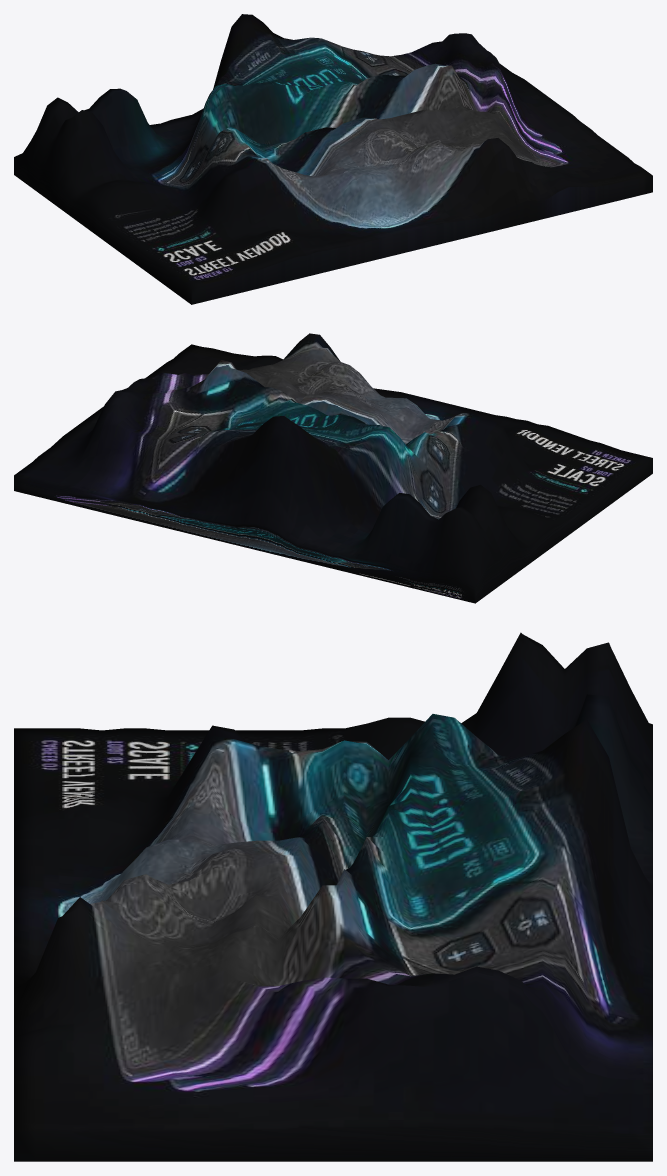
File: CAREER_01_Tool_02_Scale.glb
The picture shows the model from 3 angles, top to bottom: view 1: azimuth 30°, elevation 25°; view 2: azimuth 150°, elevation 25°; view 3: azimuth 270°, elevation 25°; orthographic projection. The views are drawn at different scales.
Parts seen in each view (by area): view 1: CAREER_01_Tool_02_Scale; view 2: CAREER_01_Tool_02_Scale; view 3: CAREER_01_Tool_02_Scale.
Part boxes in pixels (x1,y1,x2,y2): CAREER_01_Tool_02_Scale: (14, 14, 652, 304); CAREER_01_Tool_02_Scale: (14, 333, 652, 603); CAREER_01_Tool_02_Scale: (14, 632, 652, 1161).
Size of the model in its own units: 2 by 0.51 by 1.33.
Materials: 1 (1 with a texture image).
